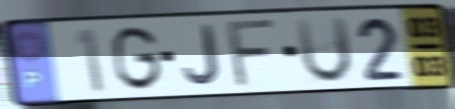1: (73, 25, 107, 95)
2: (352, 11, 410, 86)
F: (226, 16, 280, 90)
G: (111, 23, 165, 93)
J: (181, 23, 223, 89)
U: (291, 13, 355, 86)
